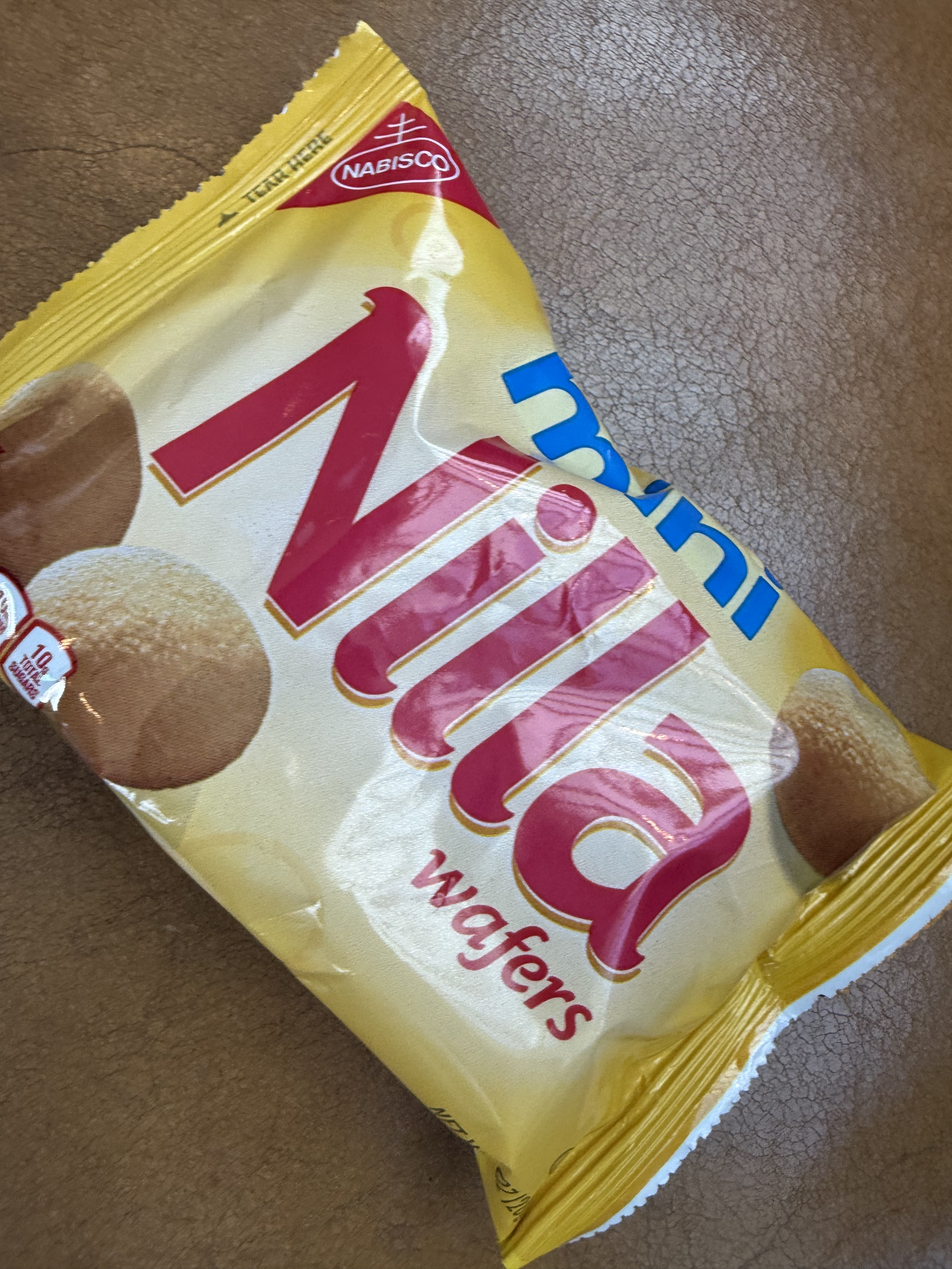nilla: (0, 428, 579, 1269), (441, 25, 459, 43)
